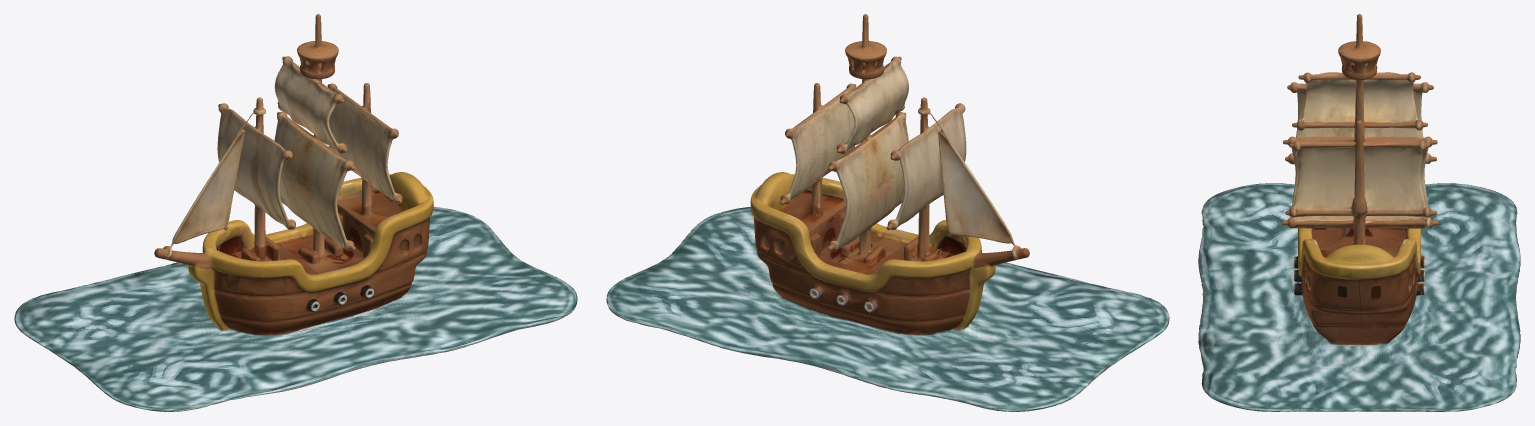
3 renders of one model, left to right at view 1: azimuth 30°, elevation 25°; view 2: azimuth 150°, elevation 25°; view 3: azimuth 270°, elevation 25°, orthographic.
Visible parts, largest first — view 1: Mesh_0; view 2: Mesh_0; view 3: Mesh_0.
Part boxes in pixels (<box>): Mesh_0: <box>14,14,577,411</box>; Mesh_0: <box>606,14,1169,411</box>; Mesh_0: <box>1198,14,1520,411</box>.
Bounding box in the file's own units: 1.9 × 1.19 × 1.14.
Materials: 1 (1 with a texture image).
